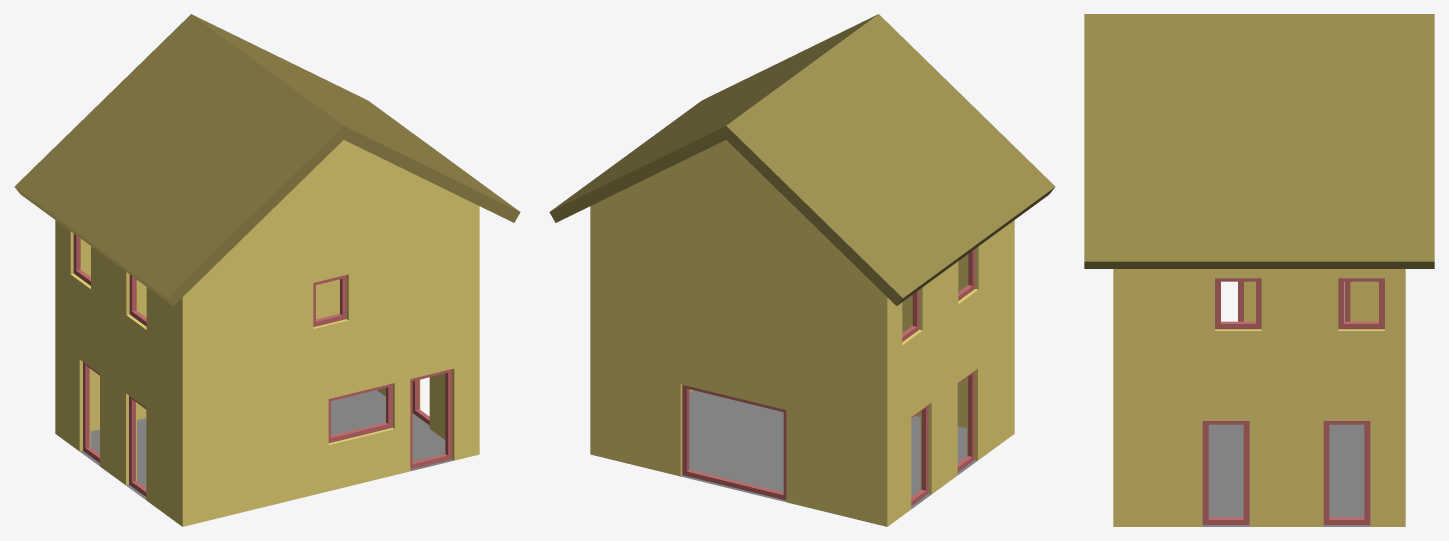
Rendered from result.glb.
The picture shows the model from 3 angles, left to right: view 1: azimuth 30°, elevation 25°; view 2: azimuth 150°, elevation 25°; view 3: azimuth 270°, elevation 25°; orthographic projection. The views are drawn at different scales.
Parts seen in each view (by area): view 1: b7f73496-8207-4dd3-a967-9f0736075f60__undefined, 106044ed-fce5-4064-be7f-9031a6847476__undefined (×2), 550c17cb-cee6-4383-bb28-c29cbc6a4ef2__Plane_12, 71c19a53-0c3a-438a-93c4-aa6d32d2e5b4__Box, 6b3d77bd-b72d-4e05-af94-05cce1d71ba5__Box_3, 121ef27d-c4c9-43ba-81af-e9f87e4b6f94__Box_12, c26b2c28-64c1-4495-a7b1-69aabf4089e2__Box_15, 25070506-7369-4b65-b0ba-b4f6947b0ef6__Box_6; view 2: b7f73496-8207-4dd3-a967-9f0736075f60__undefined, 106044ed-fce5-4064-be7f-9031a6847476__undefined (×2), 550c17cb-cee6-4383-bb28-c29cbc6a4ef2__Plane_12, cfb06c1d-3f08-4a8d-856d-6041944760a1__Box_9, c26b2c28-64c1-4495-a7b1-69aabf4089e2__Box_15, 121ef27d-c4c9-43ba-81af-e9f87e4b6f94__Box_12; view 3: 106044ed-fce5-4064-be7f-9031a6847476__undefined, b7f73496-8207-4dd3-a967-9f0736075f60__undefined, 550c17cb-cee6-4383-bb28-c29cbc6a4ef2__Plane_12, d8774c77-22f6-4482-a8da-f7c73d824beb__Box_24, cbb0eff6-3ee5-487e-b88c-cd60ddd2e1be__Box_27, 59347506-5f2a-4137-a285-deeccc8db934__Box_30, a1eb71e4-00f8-4678-80fa-e8d830a38c74__Box_33.
Part boxes in pixels (bbox=[...]): b7f73496-8207-4dd3-a967-9f0736075f60__undefined: bbox=[55, 140, 479, 526]; 106044ed-fce5-4064-be7f-9031a6847476__undefined (×2): bbox=[14, 14, 520, 305]; 550c17cb-cee6-4383-bb28-c29cbc6a4ef2__Plane_12: bbox=[80, 390, 453, 499]; 71c19a53-0c3a-438a-93c4-aa6d32d2e5b4__Box: bbox=[410, 369, 452, 469]; 6b3d77bd-b72d-4e05-af94-05cce1d71ba5__Box_3: bbox=[328, 383, 392, 443]; 121ef27d-c4c9-43ba-81af-e9f87e4b6f94__Box_12: bbox=[129, 396, 146, 496]; c26b2c28-64c1-4495-a7b1-69aabf4089e2__Box_15: bbox=[83, 362, 99, 462]; 25070506-7369-4b65-b0ba-b4f6947b0ef6__Box_6: bbox=[313, 275, 346, 326]; b7f73496-8207-4dd3-a967-9f0736075f60__undefined: bbox=[590, 140, 1014, 526]; 106044ed-fce5-4064-be7f-9031a6847476__undefined (×2): bbox=[549, 14, 1055, 305]; 550c17cb-cee6-4383-bb28-c29cbc6a4ef2__Plane_12: bbox=[681, 390, 977, 508]; cfb06c1d-3f08-4a8d-856d-6041944760a1__Box_9: bbox=[682, 385, 786, 500]; c26b2c28-64c1-4495-a7b1-69aabf4089e2__Box_15: bbox=[911, 405, 928, 505]; 121ef27d-c4c9-43ba-81af-e9f87e4b6f94__Box_12: bbox=[957, 371, 974, 471]; 106044ed-fce5-4064-be7f-9031a6847476__undefined: bbox=[1084, 14, 1434, 268]; b7f73496-8207-4dd3-a967-9f0736075f60__undefined: bbox=[1113, 269, 1405, 526]; 550c17cb-cee6-4383-bb28-c29cbc6a4ef2__Plane_12: bbox=[1202, 424, 1370, 526]; d8774c77-22f6-4482-a8da-f7c73d824beb__Box_24: bbox=[1202, 421, 1249, 524]; cbb0eff6-3ee5-487e-b88c-cd60ddd2e1be__Box_27: bbox=[1323, 421, 1370, 524]; 59347506-5f2a-4137-a285-deeccc8db934__Box_30: bbox=[1215, 278, 1261, 329]; a1eb71e4-00f8-4678-80fa-e8d830a38c74__Box_33: bbox=[1338, 278, 1384, 329].
Size of the model in its own units: 803 by 812 by 600.
